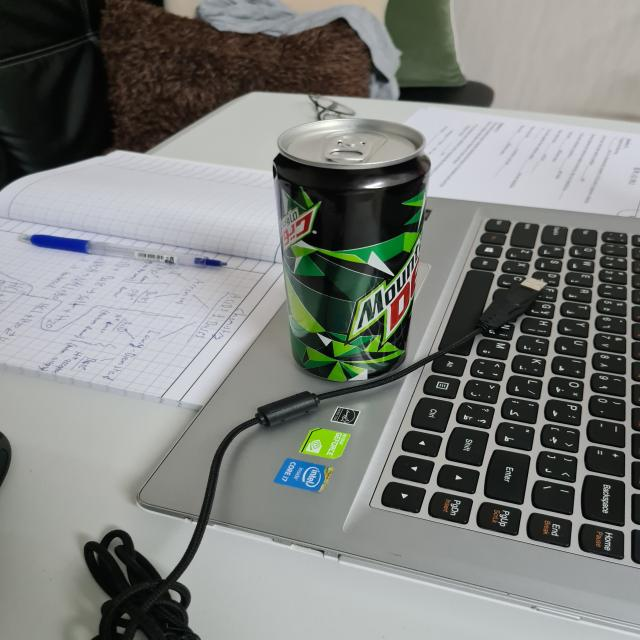non-organic waste: (252, 111, 439, 388)
